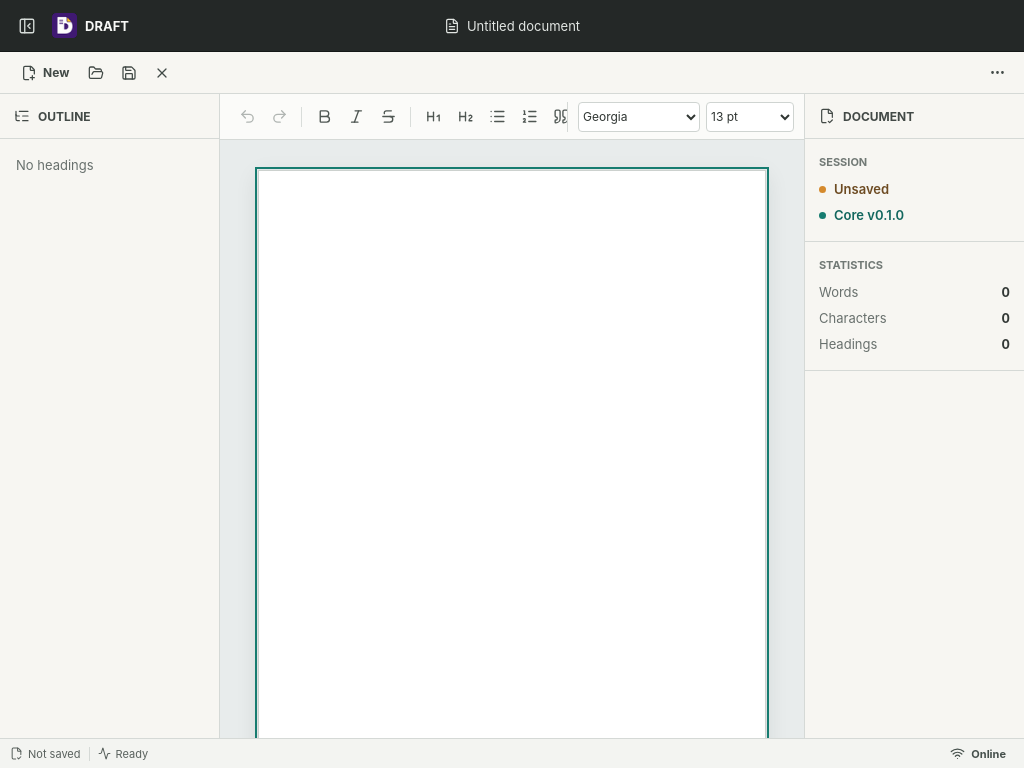
Scenario: Phase 46 visible workflows › persists and restores bounded font formatting through lifecycle commands
Select "Avenir Next" in the dropdown named "Font family": point(639, 116) [578, 102, 700, 132]
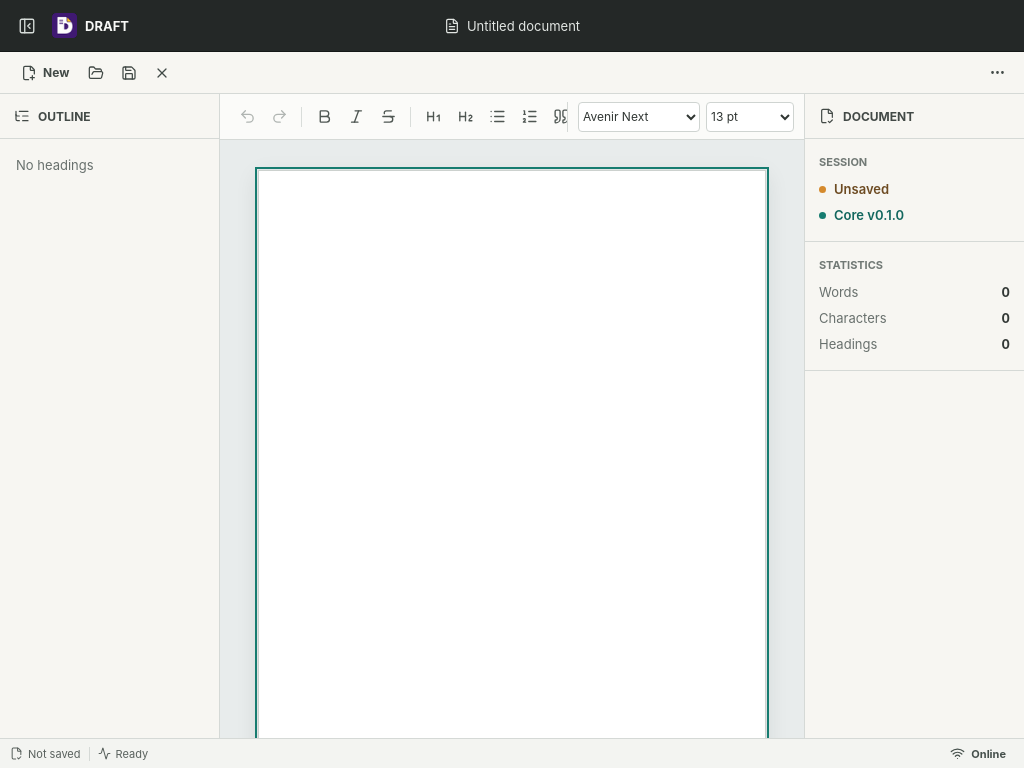
Select "19 pt" in the dropdown named "Font size in points": point(750, 116) [706, 102, 794, 132]
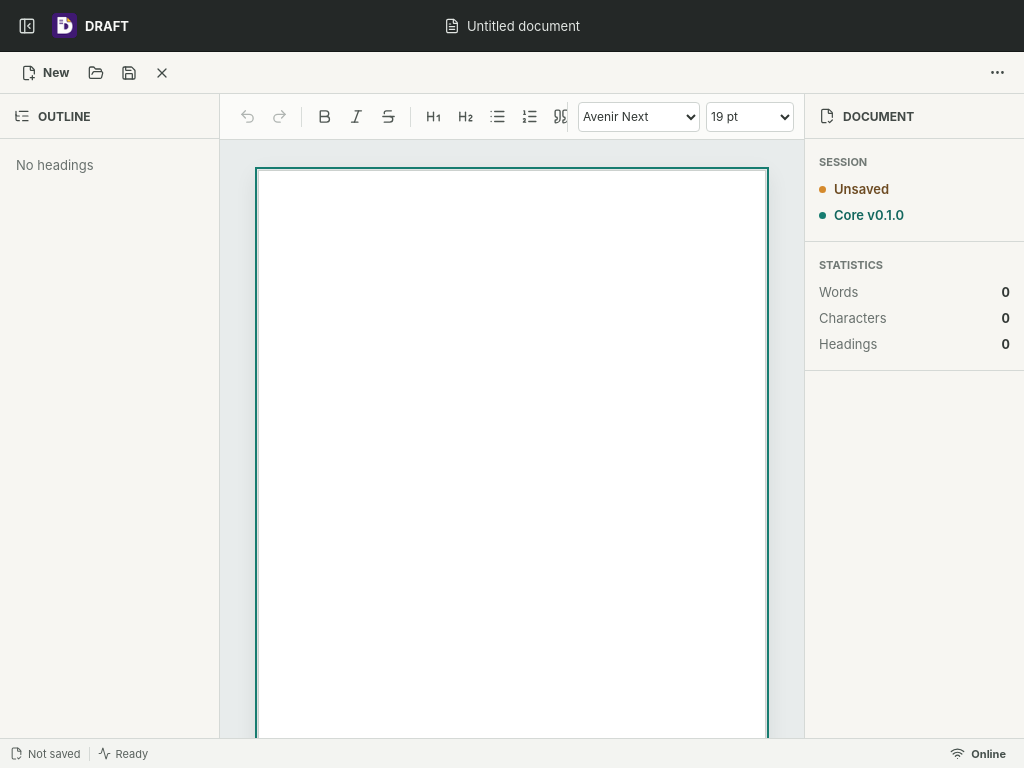
Type keys "Styled "
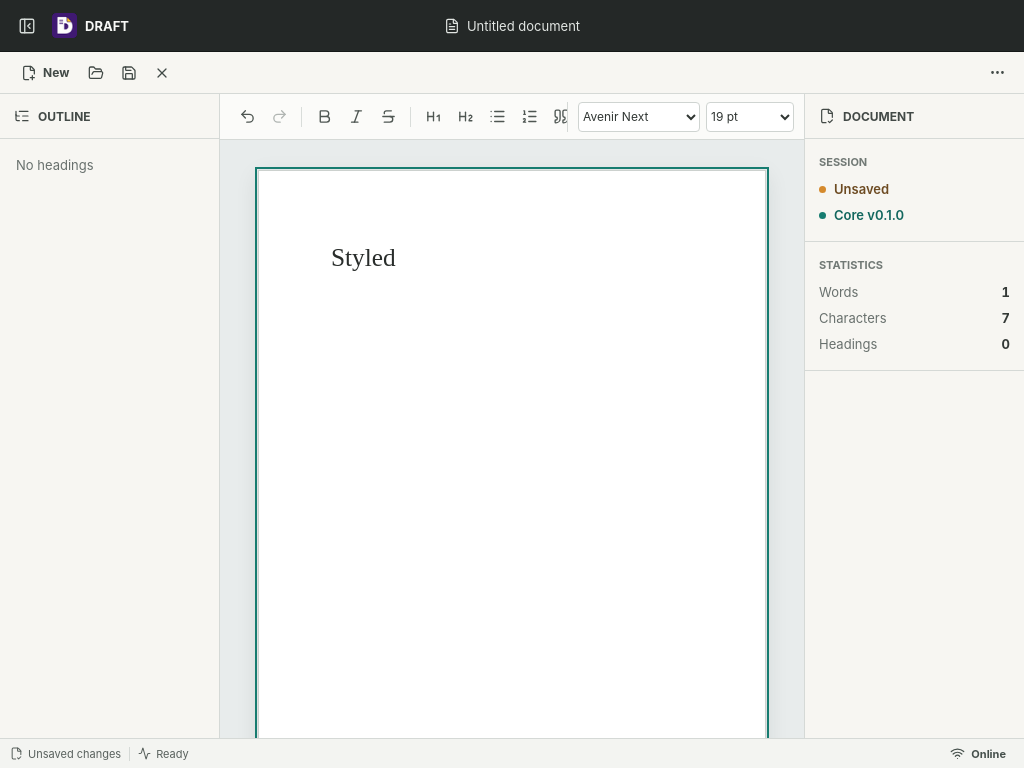
Click the button named "Save": point(129, 72) [114, 58, 144, 88]
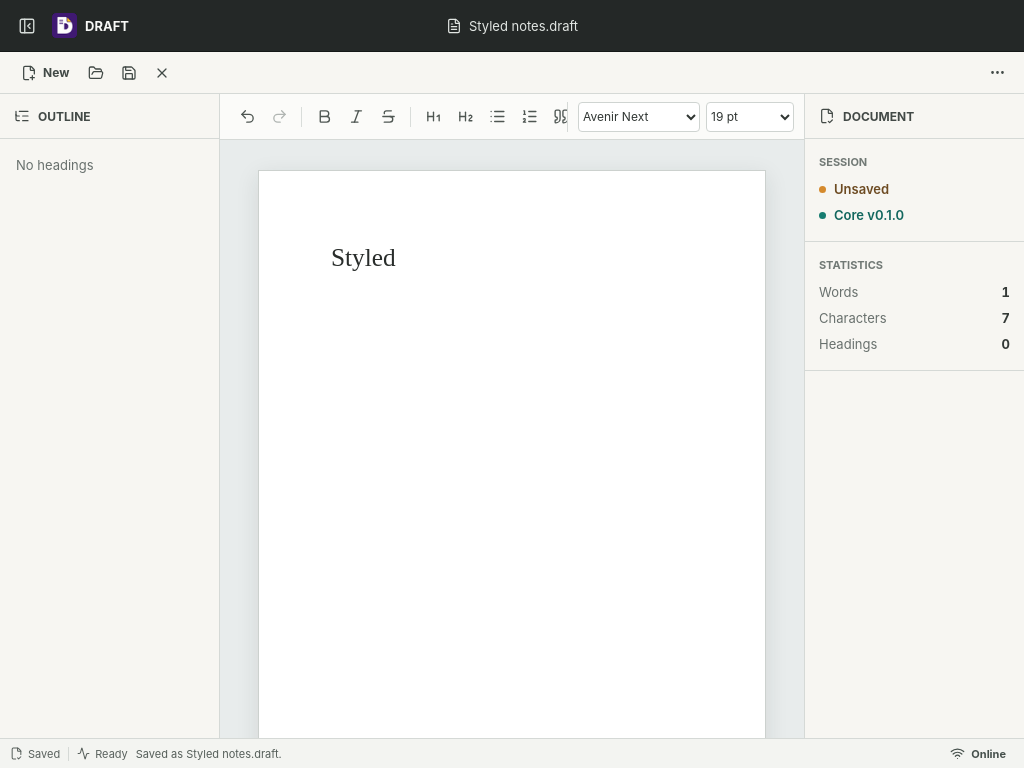
Click the button named "Close": point(162, 72) [147, 58, 177, 88]
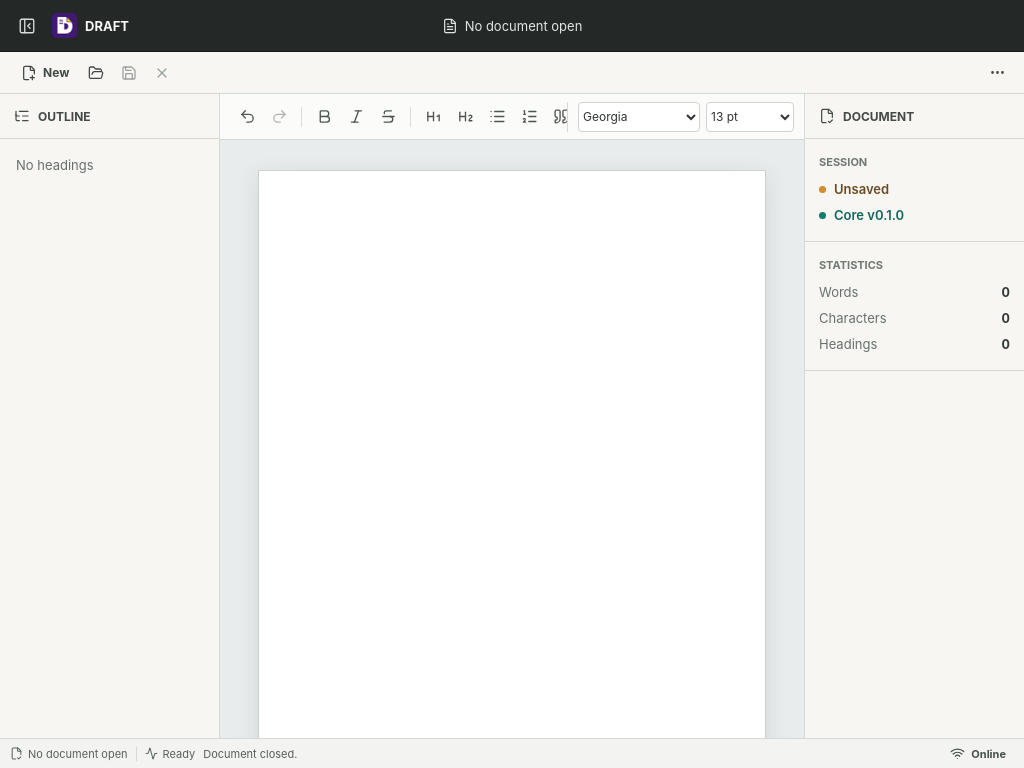
Click the button named "Open…": point(96, 72) [81, 58, 111, 88]
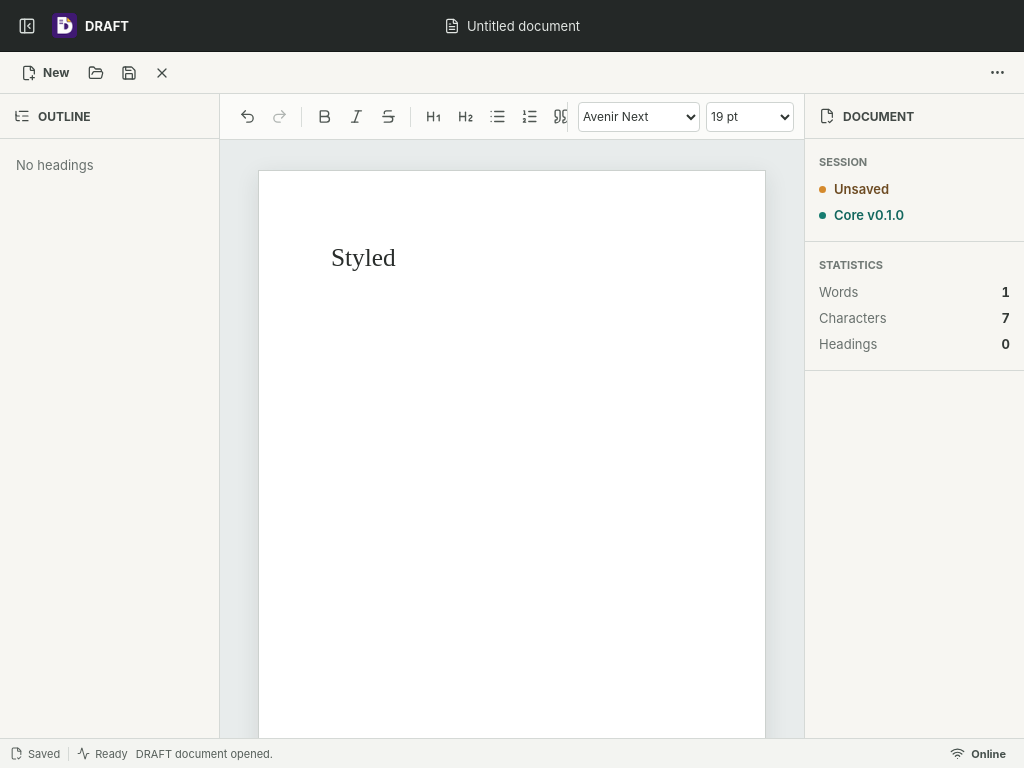
Result: the text box labelled "Styled" is shown at [331, 251, 402, 270]
